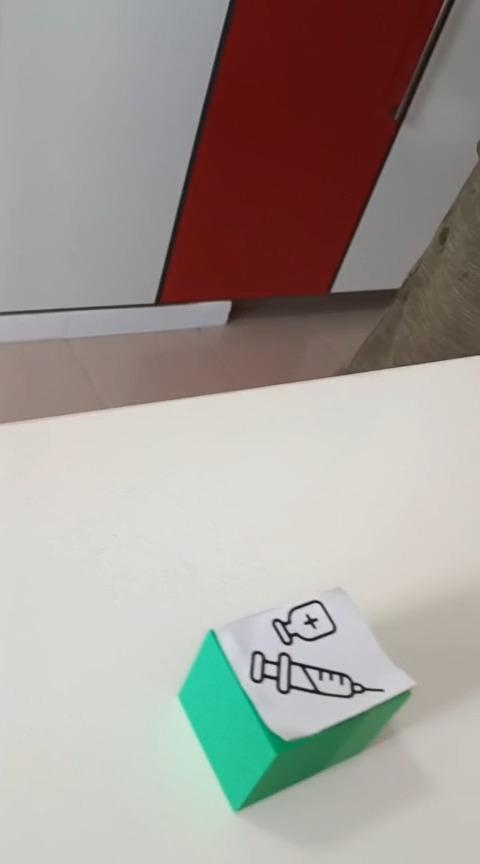antiseptic cream: (176, 584, 416, 812)
